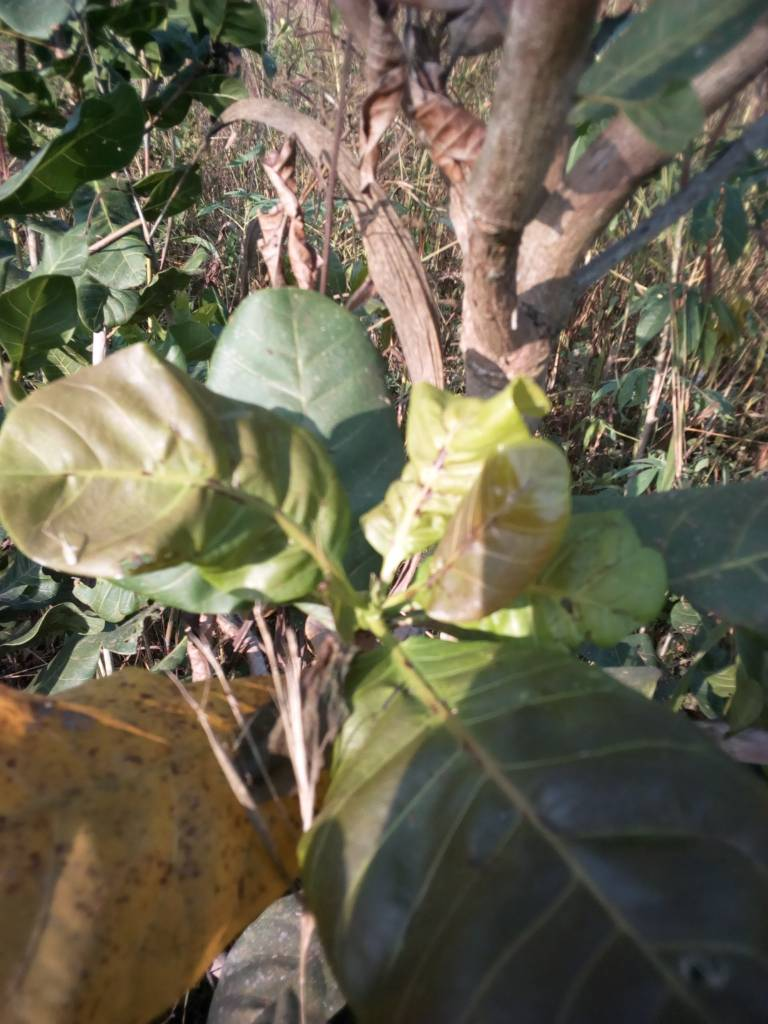Helopeltis anacardii: (1, 352, 354, 603), (397, 439, 577, 605)
